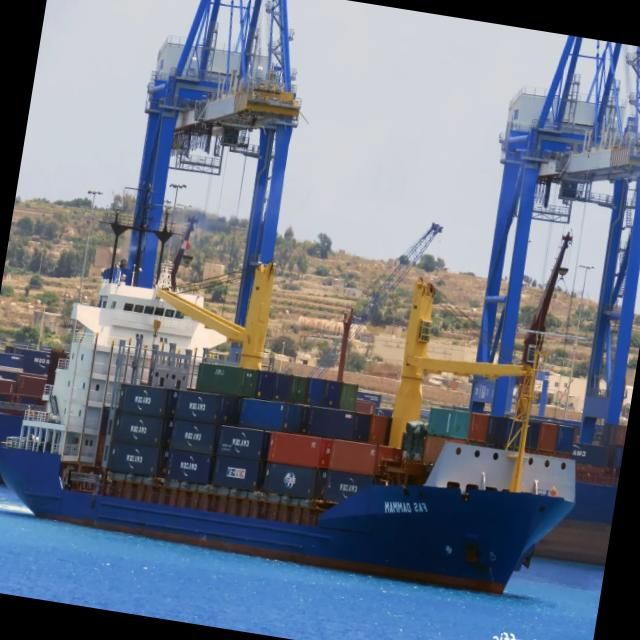Cargo: (0, 260, 575, 594)
